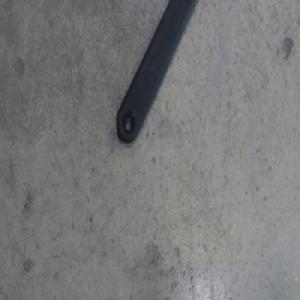AdjustableWrench: (116, 0, 196, 143)
